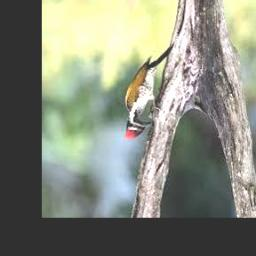Woodpecker: (125, 45, 174, 139)
